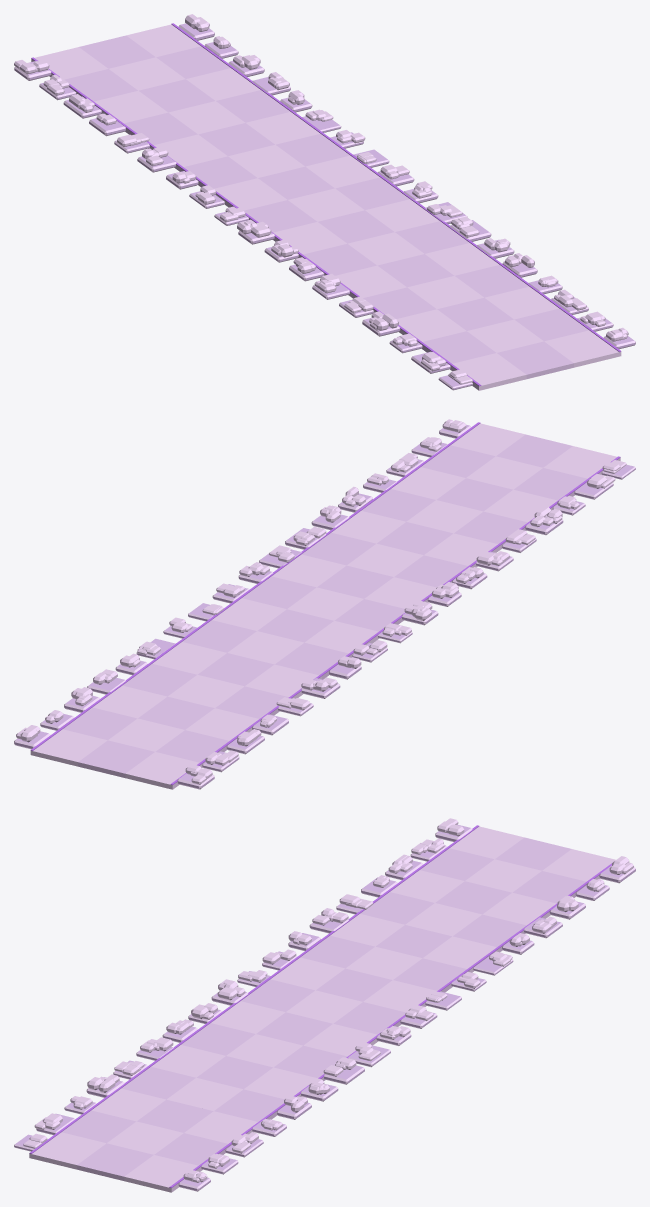
Rendered from cielo-alto_Suelo.glb.
3 renders of one model, top to bottom at view 1: azimuth 30°, elevation 25°; view 2: azimuth 150°, elevation 25°; view 3: azimuth 330°, elevation 25°, orthographic.
Visible parts, largest first — view 1: Mapa_cielo_alto_Suelo; view 2: Mapa_cielo_alto_Suelo; view 3: Mapa_cielo_alto_Suelo.
Part boxes in pixels (x1,y1,x2,y2): Mapa_cielo_alto_Suelo: (14, 14, 635, 390); Mapa_cielo_alto_Suelo: (14, 419, 635, 789); Mapa_cielo_alto_Suelo: (14, 818, 635, 1192).
Size of the model in its own units: 88.27 by 6.85 by 360.
Materials: 1 (1 with a texture image).
